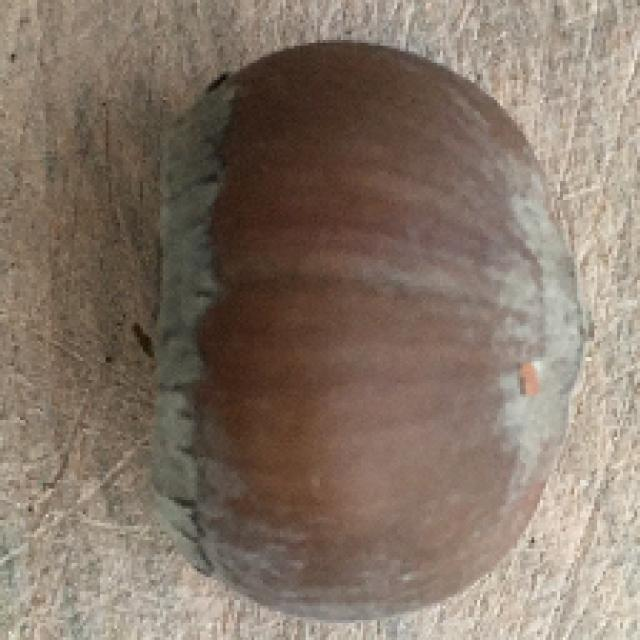damagedHazelnut: (128, 42, 590, 622)
